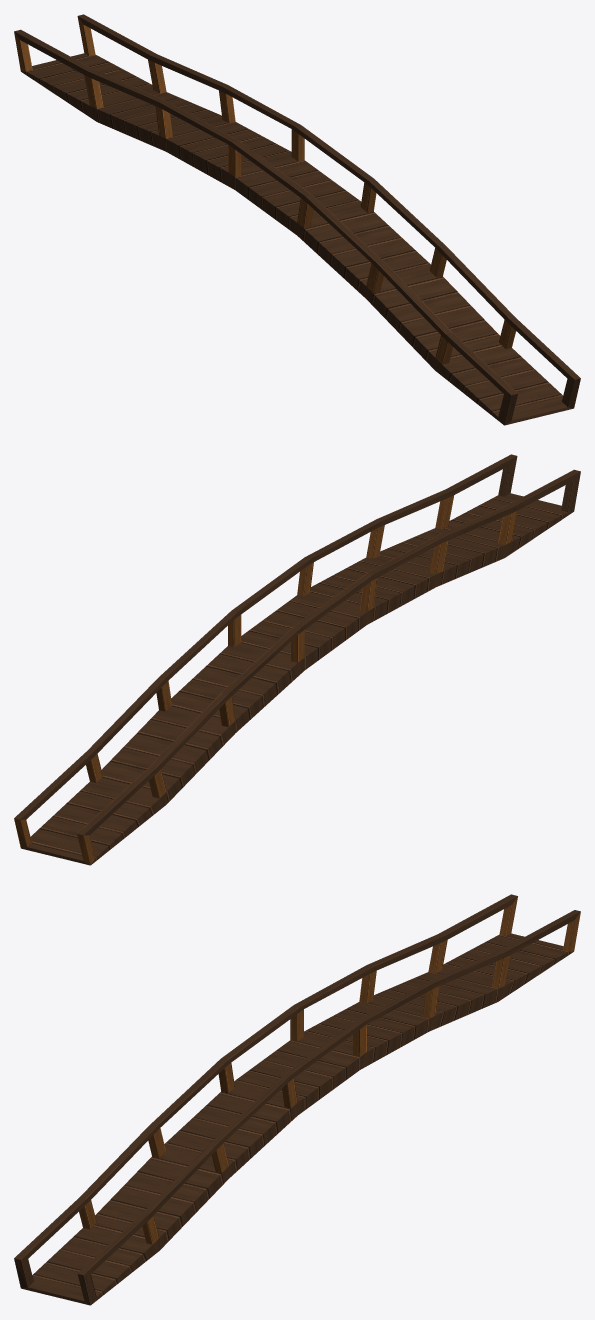
File: co_Bridge1.fbx
3 renders of one model, top to bottom at view 1: azimuth 30°, elevation 25°; view 2: azimuth 150°, elevation 25°; view 3: azimuth 330°, elevation 25°, orthographic.
Visible parts, largest first — view 1: Bridge1; view 2: Bridge1; view 3: Bridge1.
Part boxes in pixels (x1,y1,x2,y2): Bridge1: (14, 14, 580, 425); Bridge1: (14, 454, 580, 865); Bridge1: (14, 894, 580, 1305).
Size of the model in its own units: 1559 by 1788 by 19239.
